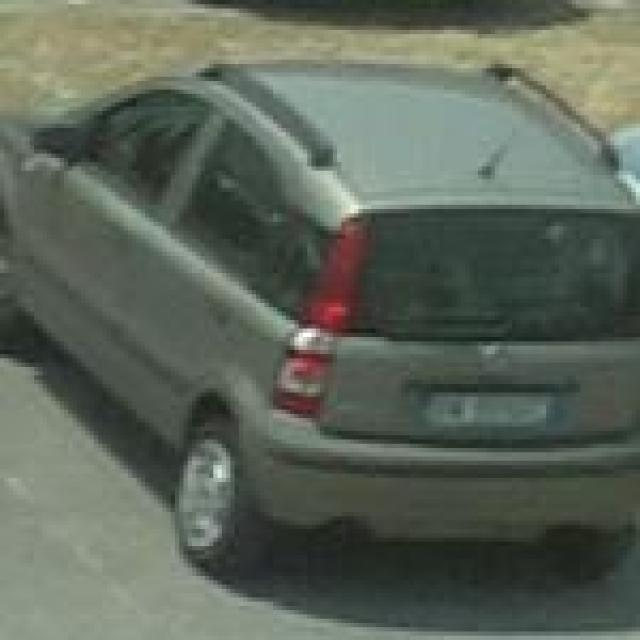cars-sUYr: (0, 45, 640, 602)
